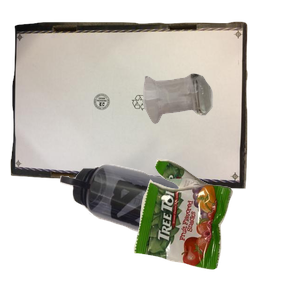cardboard: (10, 19, 250, 199)
glass: (141, 71, 300, 187)
plastic: (58, 162, 261, 300)
trash: (131, 156, 300, 300)
